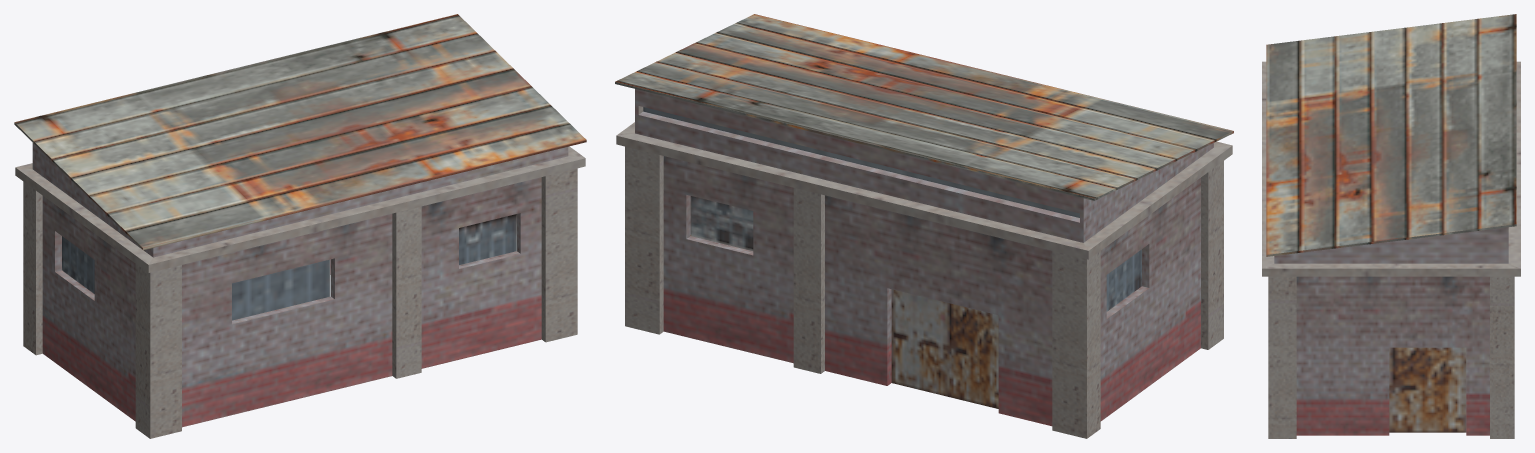
The model's file is house2.FBX.
The picture shows the model from 3 angles, left to right: view 1: azimuth 30°, elevation 25°; view 2: azimuth 150°, elevation 25°; view 3: azimuth 270°, elevation 25°; orthographic projection. The views are drawn at different scales.
Visible parts, largest first — view 1: house; view 2: house; view 3: house.
Boxes of the visible parts, x1,y1,x2,y2 form: house: (14, 14, 586, 438); house: (615, 14, 1233, 438); house: (1262, 14, 1520, 438).
Size of the model in its own units: 2.56 by 1.24 by 1.33.
